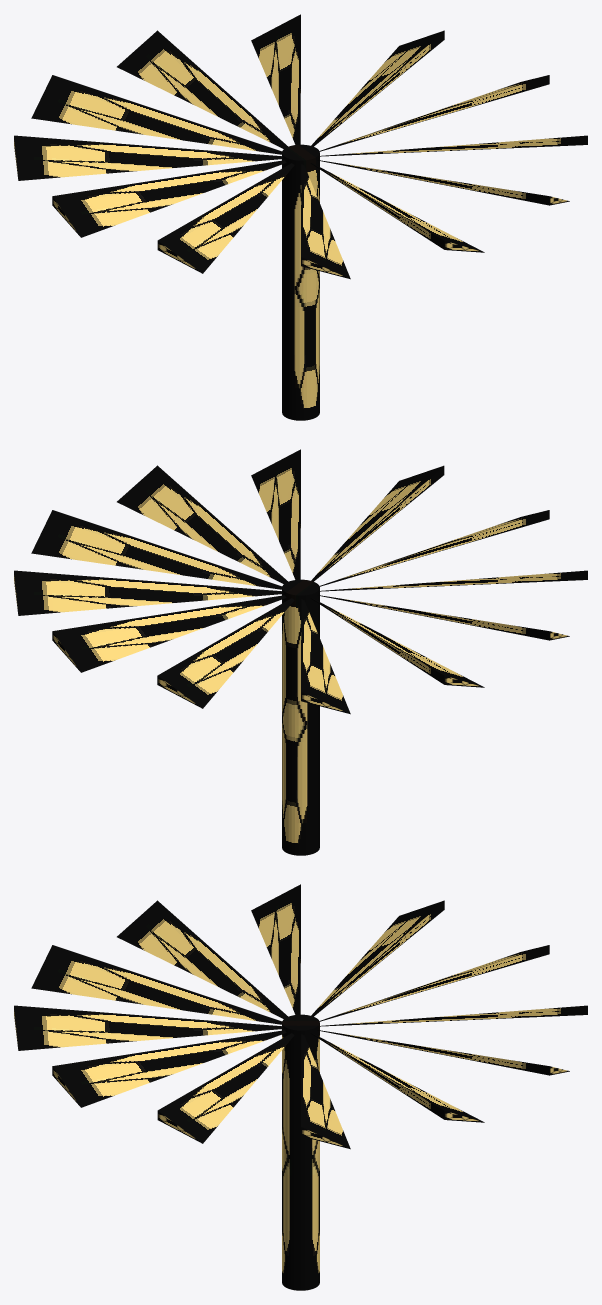
The model's file is award_copter_blade.fbx.
3 views of the same model, one above another, from view 1: azimuth 30°, elevation 25°; view 2: azimuth 150°, elevation 25°; view 3: azimuth 270°, elevation 25° (orthographic).
Visible parts, largest first — view 1: copter_blades; view 2: copter_blades; view 3: copter_blades.
Part boxes in pixels (box(x1,y1,x2,y2)): copter_blades: box(14, 14, 587, 420); copter_blades: box(14, 449, 587, 855); copter_blades: box(14, 884, 587, 1290).
Bounding box in the file's own units: 100 × 53.29 × 100.
